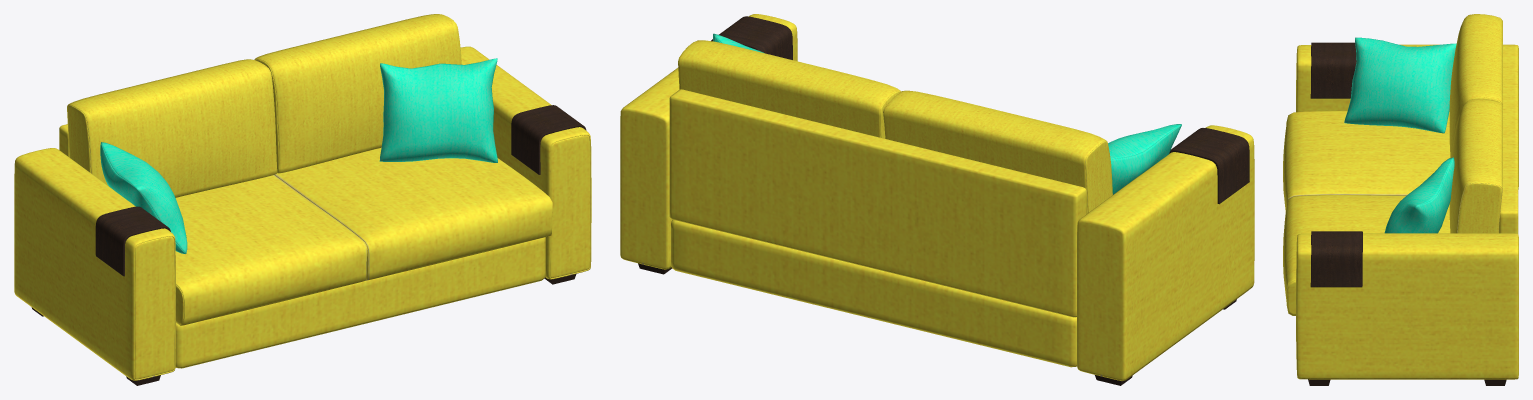
3 views of the same model, side by side, from view 1: azimuth 30°, elevation 25°; view 2: azimuth 150°, elevation 25°; view 3: azimuth 270°, elevation 25° (orthographic). The views are drawn at different scales.
Visible parts, largest first — view 1: Pillow Big_Bottom, Pillow Big_Back, Sidewalls, Frame_bottom, pillow_01, Onlay_wood, pillow_02; view 2: Back cover, Sidewalls, Pillow Big_Back, Frame_bottom, Onlay_wood, pillow_02; view 3: Sidewalls, Pillow Big_Bottom, Pillow Big_Back, pillow_02, Onlay_wood, Back cover, pillow_01, Feet.
Part boxes in pixels (x1,y1,x2,y2): Pillow Big_Bottom: [175, 147, 552, 325]; Pillow Big_Back: [67, 14, 461, 197]; Sidewalls: [14, 46, 591, 380]; Frame_bottom: [175, 237, 545, 368]; pillow_01: [379, 58, 497, 162]; Onlay_wood: [95, 105, 586, 276]; pillow_02: [100, 142, 187, 253]; Back cover: [669, 89, 1086, 317]; Sidewalls: [620, 14, 1254, 380]; Pillow Big_Back: [678, 40, 1112, 213]; Frame_bottom: [671, 219, 1076, 367]; Onlay_wood: [711, 16, 1249, 204]; pillow_02: [1108, 124, 1181, 194]; Sidewalls: [1296, 44, 1518, 379]; Pillow Big_Bottom: [1283, 111, 1498, 315]; Pillow Big_Back: [1449, 14, 1502, 233]; pillow_02: [1344, 37, 1456, 133]; Onlay_wood: [1310, 42, 1362, 287]; Back cover: [1499, 45, 1518, 233]; pillow_01: [1384, 157, 1454, 233]; Feet: [1308, 379, 1506, 385].
Bounding box in the file's own units: 208 × 87.79 × 98.22.
3 materials, 3 textured.
